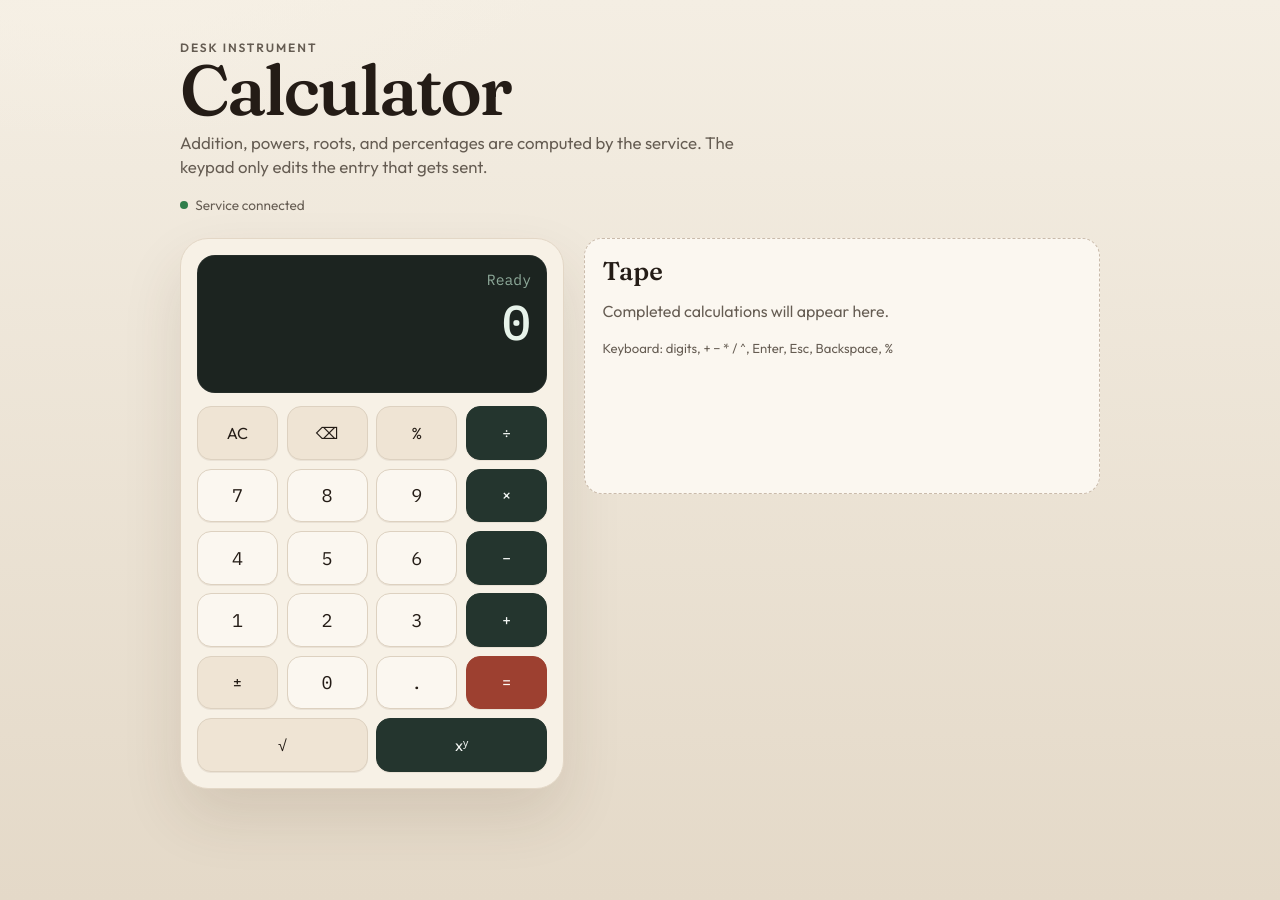
Test: Calculator › shows division by zero from the service
Check: the text "Service connected" is shown, box [180,196,305,214]
Click the button "8". click: x=327, y=495
box: [287,468,368,522]
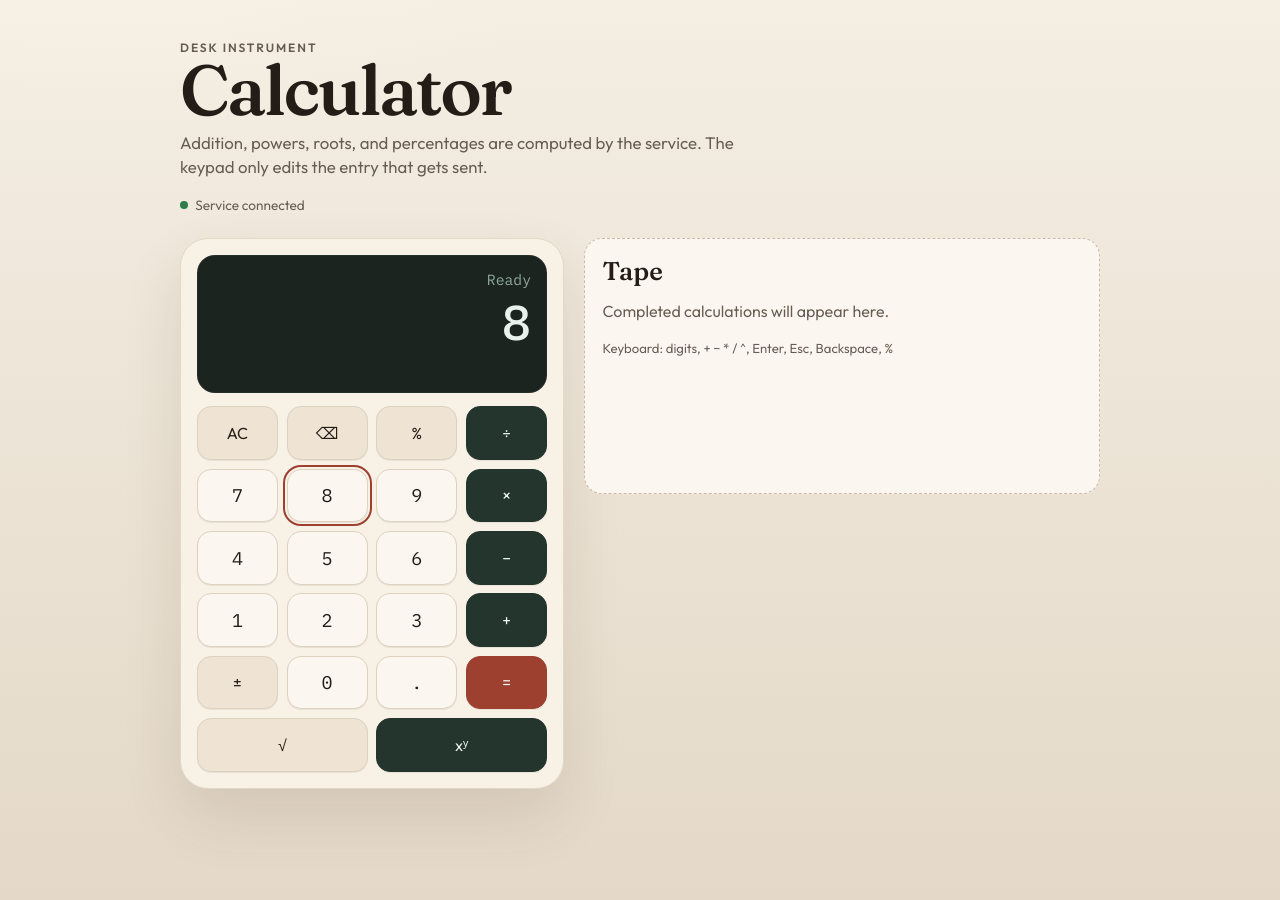
Click the button named "Divide". click: x=507, y=433
box: [466,406,547,460]
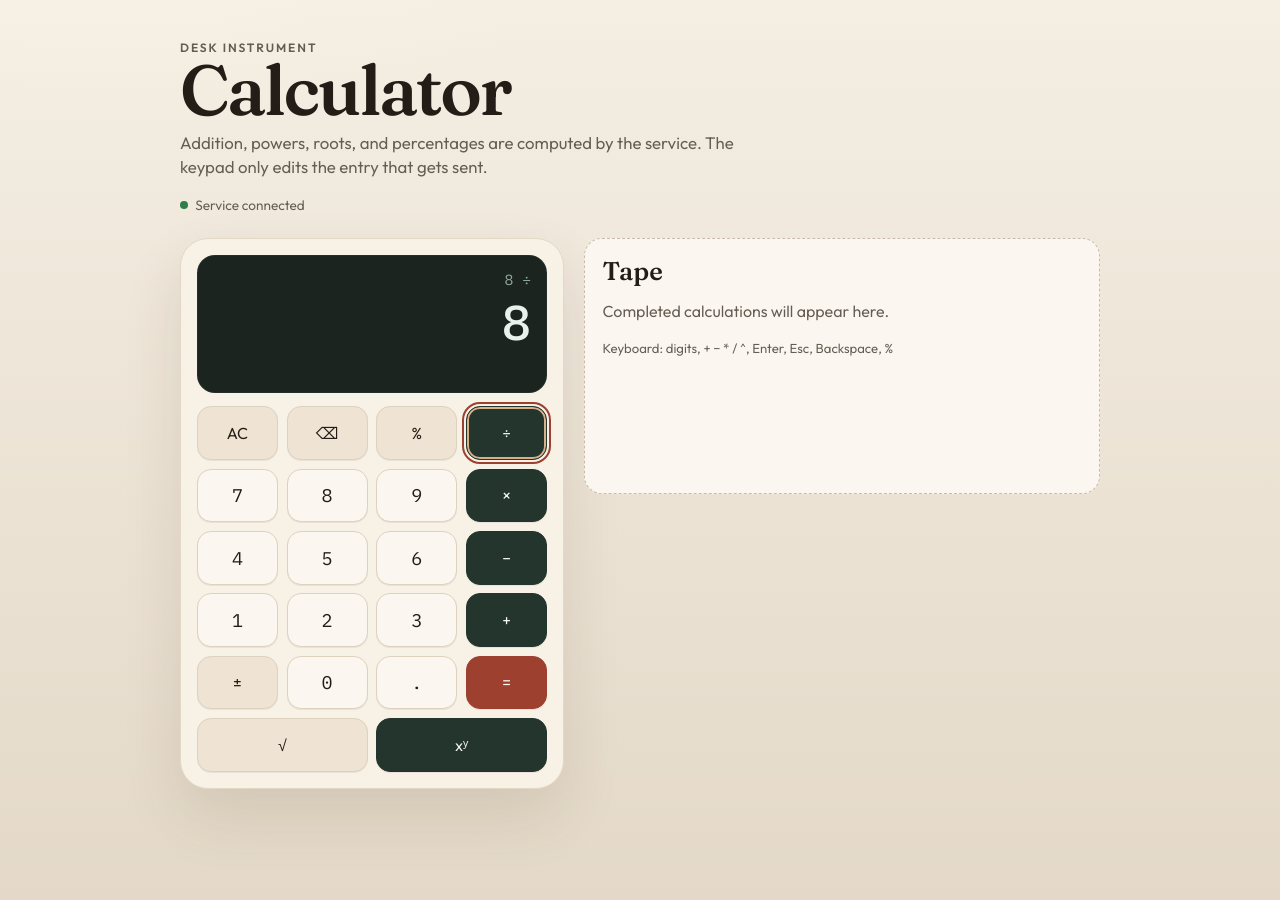
Click the button "0". click: x=327, y=682
box: [287,656,368,709]
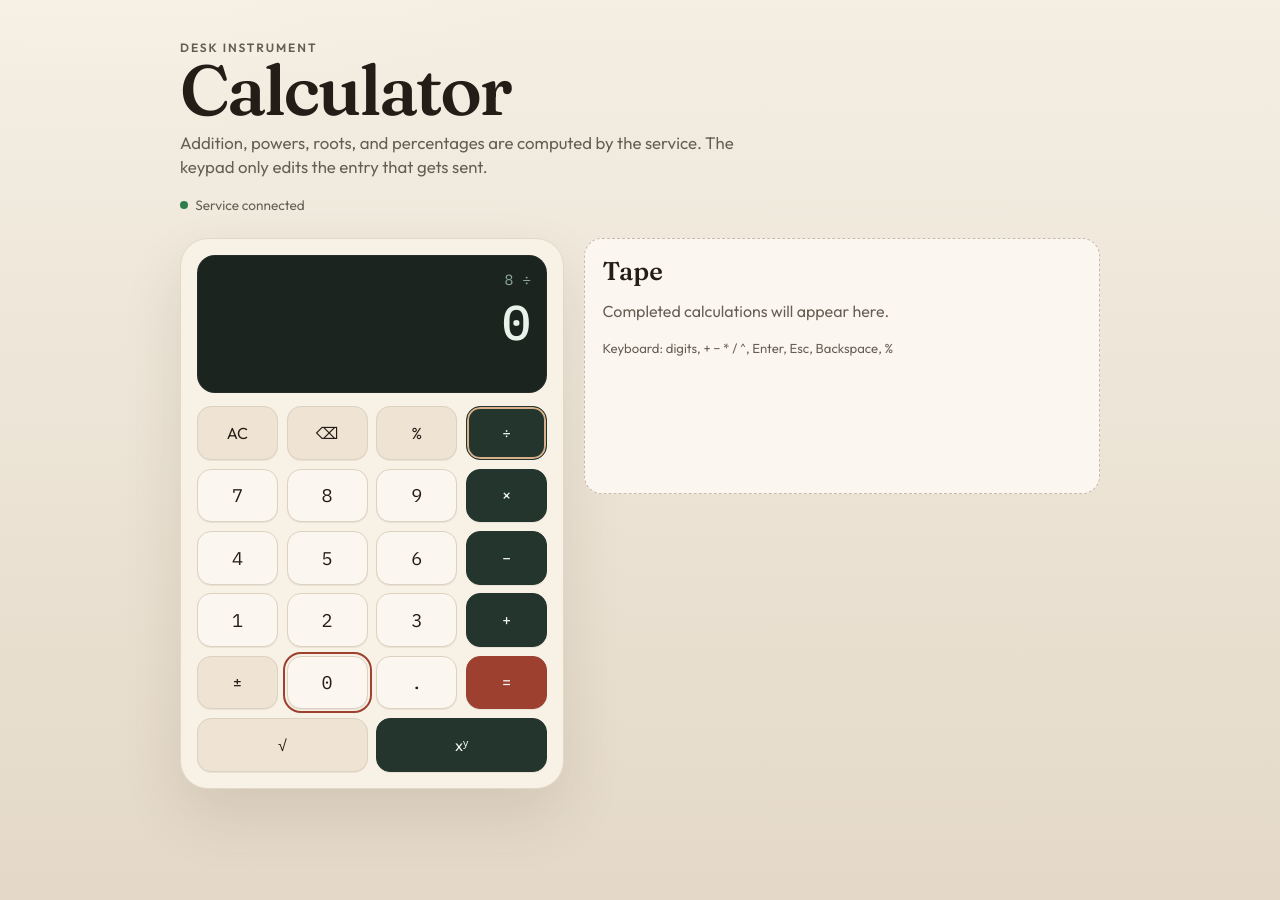
Click the button named "Equals". click: x=507, y=682
box: [466,656,547,709]
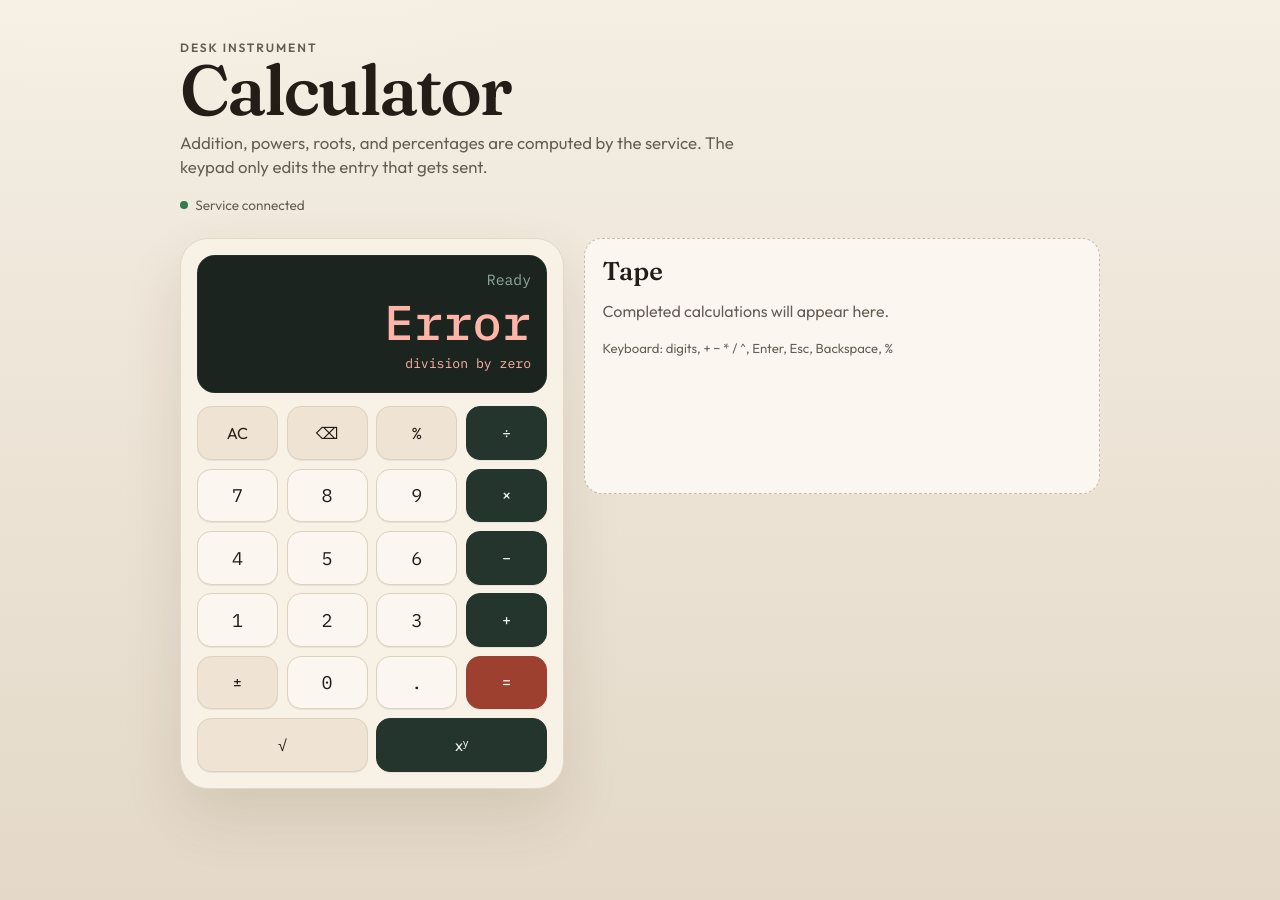
Check: the message "division by zero" is shown, box [405,355,531,372]
Check: the message "Error" is shown, box [385,290,531,353]
